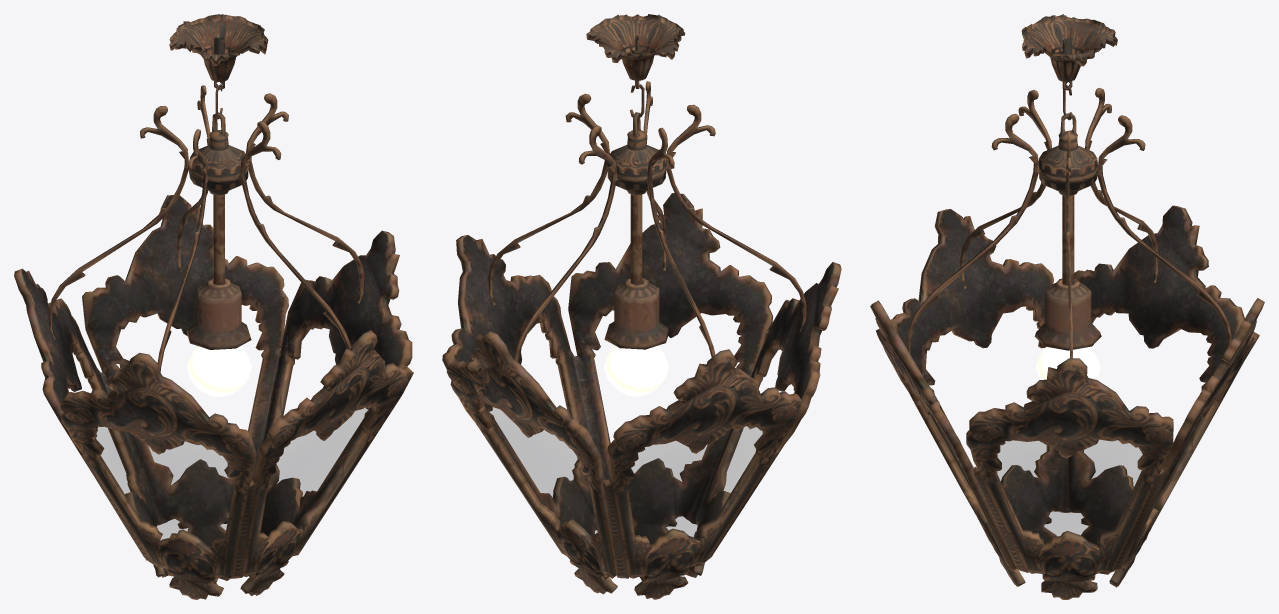
File: lantern_chandelier_01.glb
3 renders of one model, left to right at view 1: azimuth 30°, elevation 25°; view 2: azimuth 150°, elevation 25°; view 3: azimuth 270°, elevation 25°, orthographic.
Visible parts, largest first — view 1: lantern_chandelier_01; view 2: lantern_chandelier_01; view 3: lantern_chandelier_01.
Boxes of the visible parts, x1=… form: lantern_chandelier_01: x1=14, y1=14, x2=413, y2=599; lantern_chandelier_01: x1=442, y1=14, x2=841, y2=599; lantern_chandelier_01: x1=870, y1=14, x2=1264, y2=599.
Size of the model in its own units: 0.5792 by 0.8776 by 0.5746.
3 materials, 2 textured.
